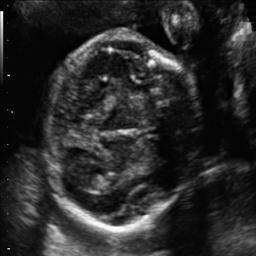normal: (41, 27, 206, 234)
